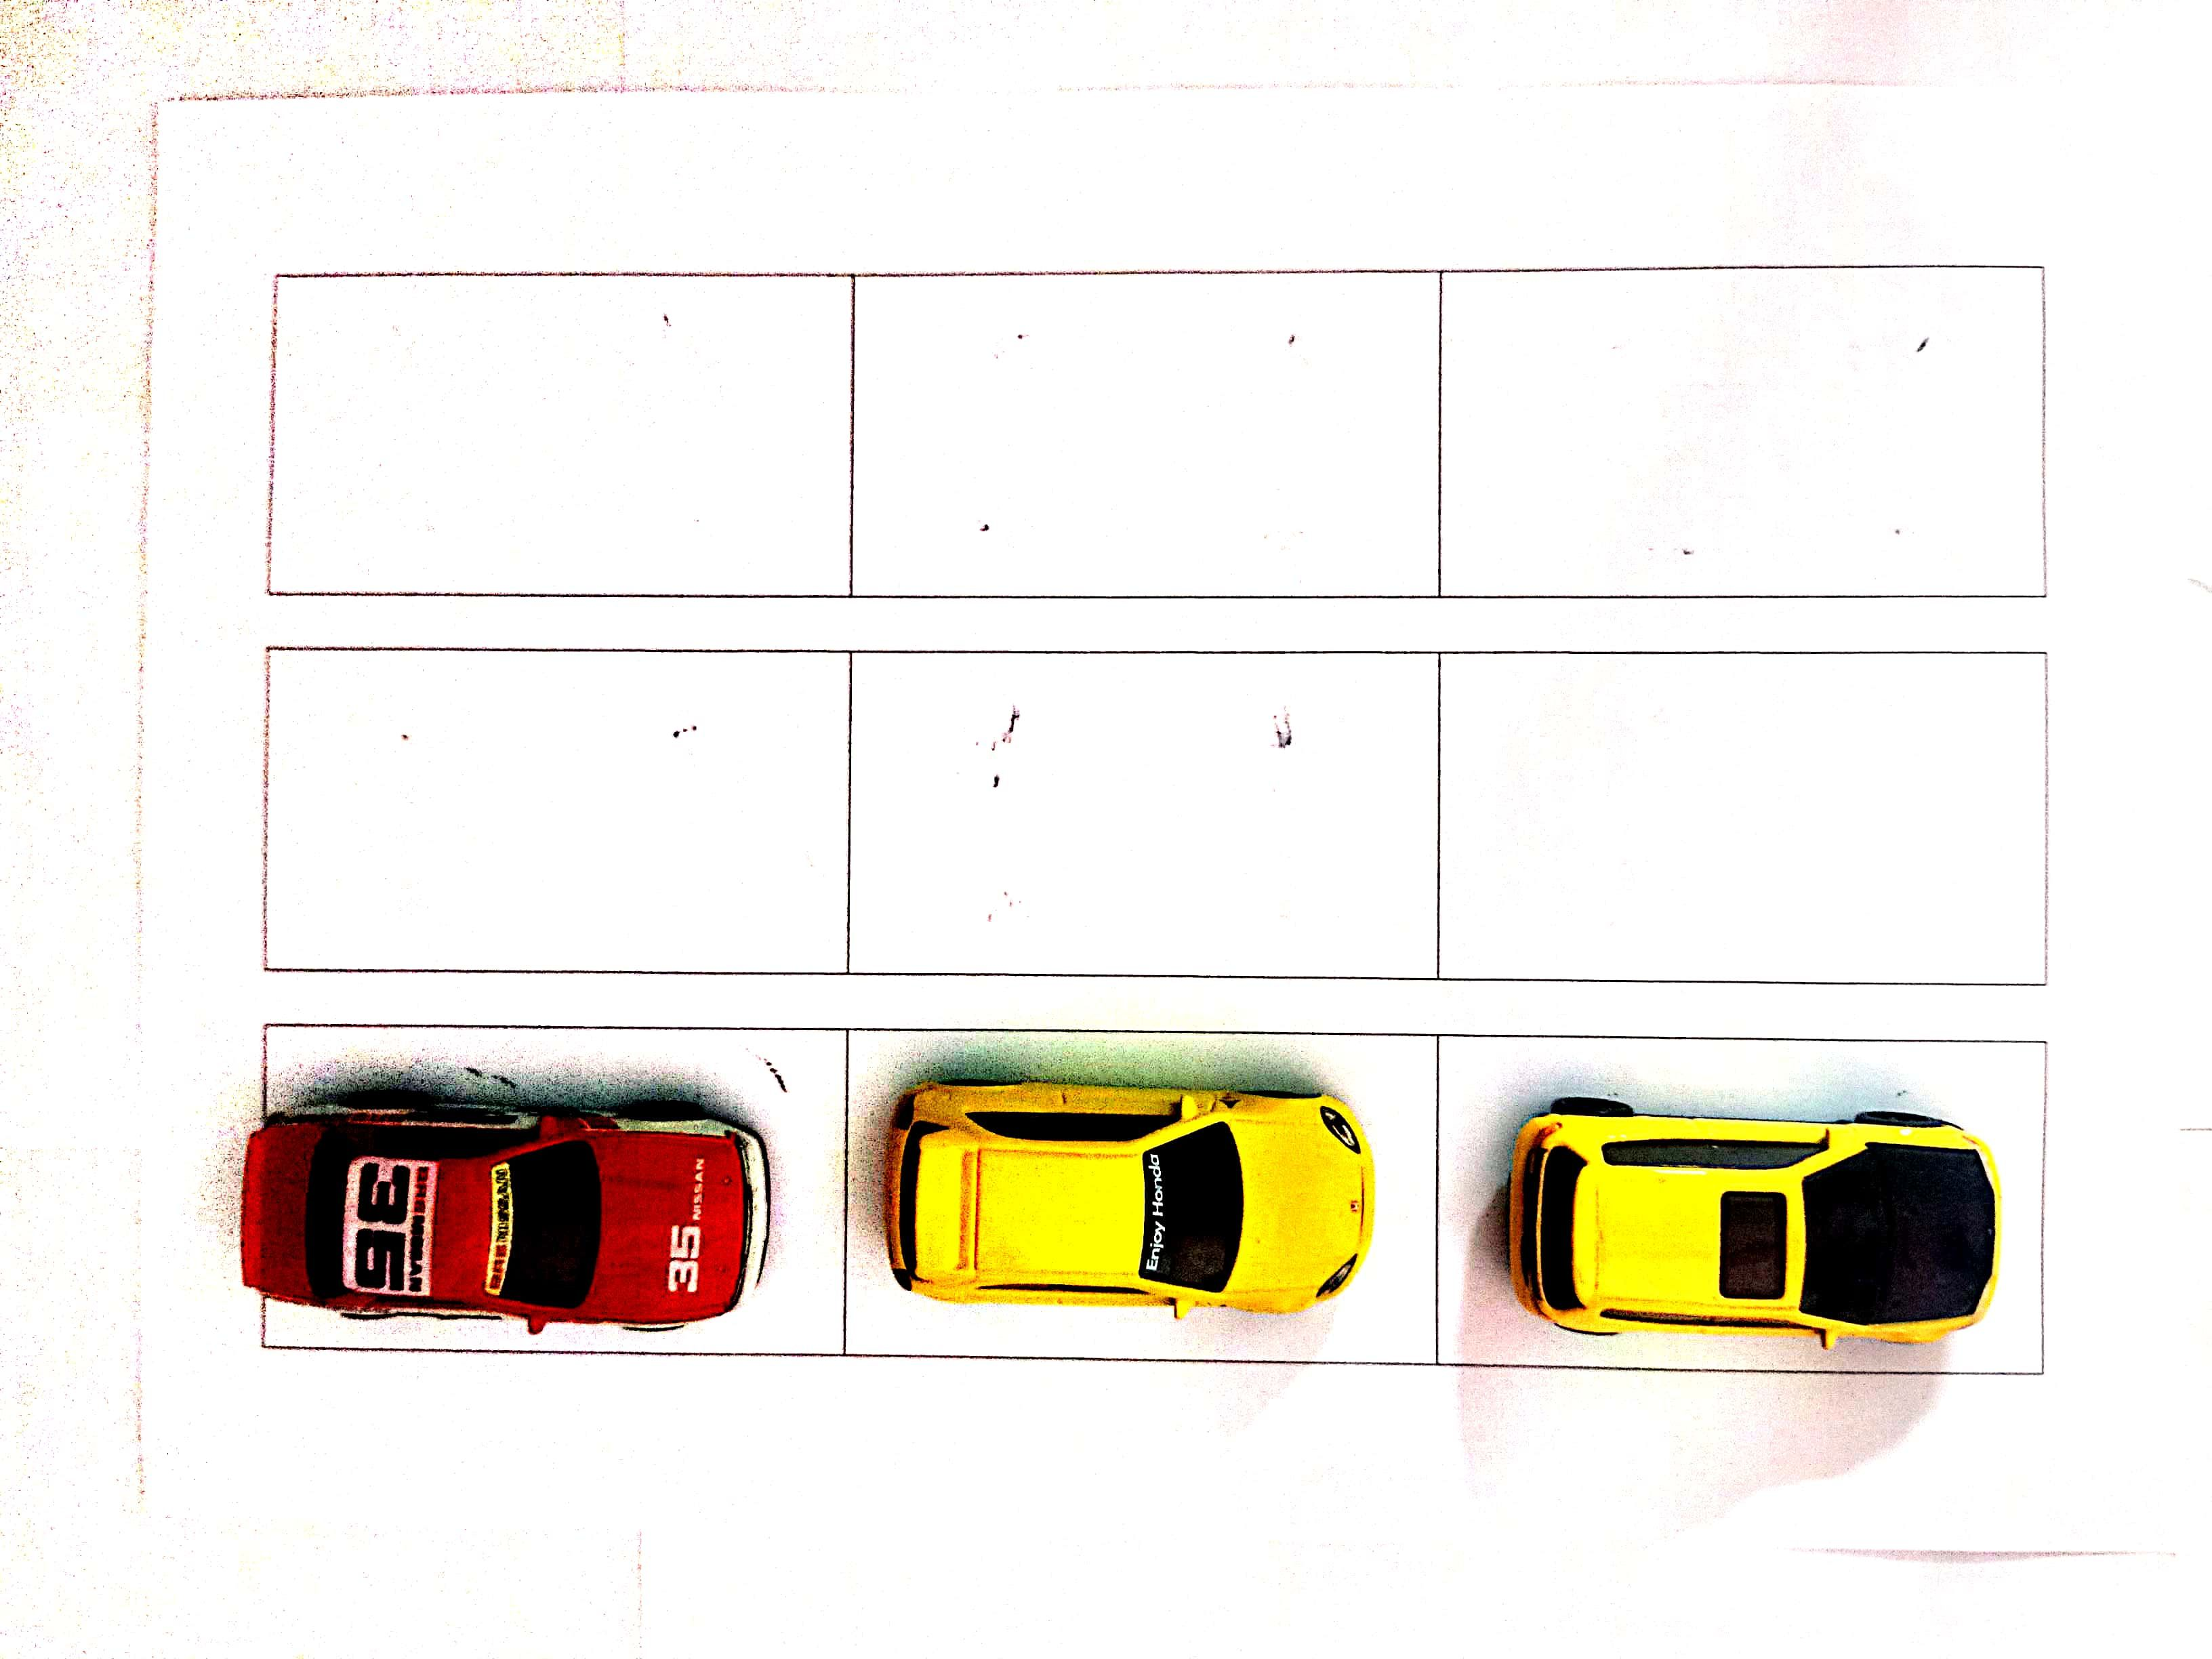Busy: (848, 1028, 1437, 1358), (1442, 1040, 2041, 1363), (265, 1035, 852, 1342)
Free: (1433, 261, 2045, 593), (1433, 653, 2041, 983), (853, 272, 1437, 593), (852, 657, 1440, 971), (265, 653, 852, 967), (270, 275, 853, 589)
